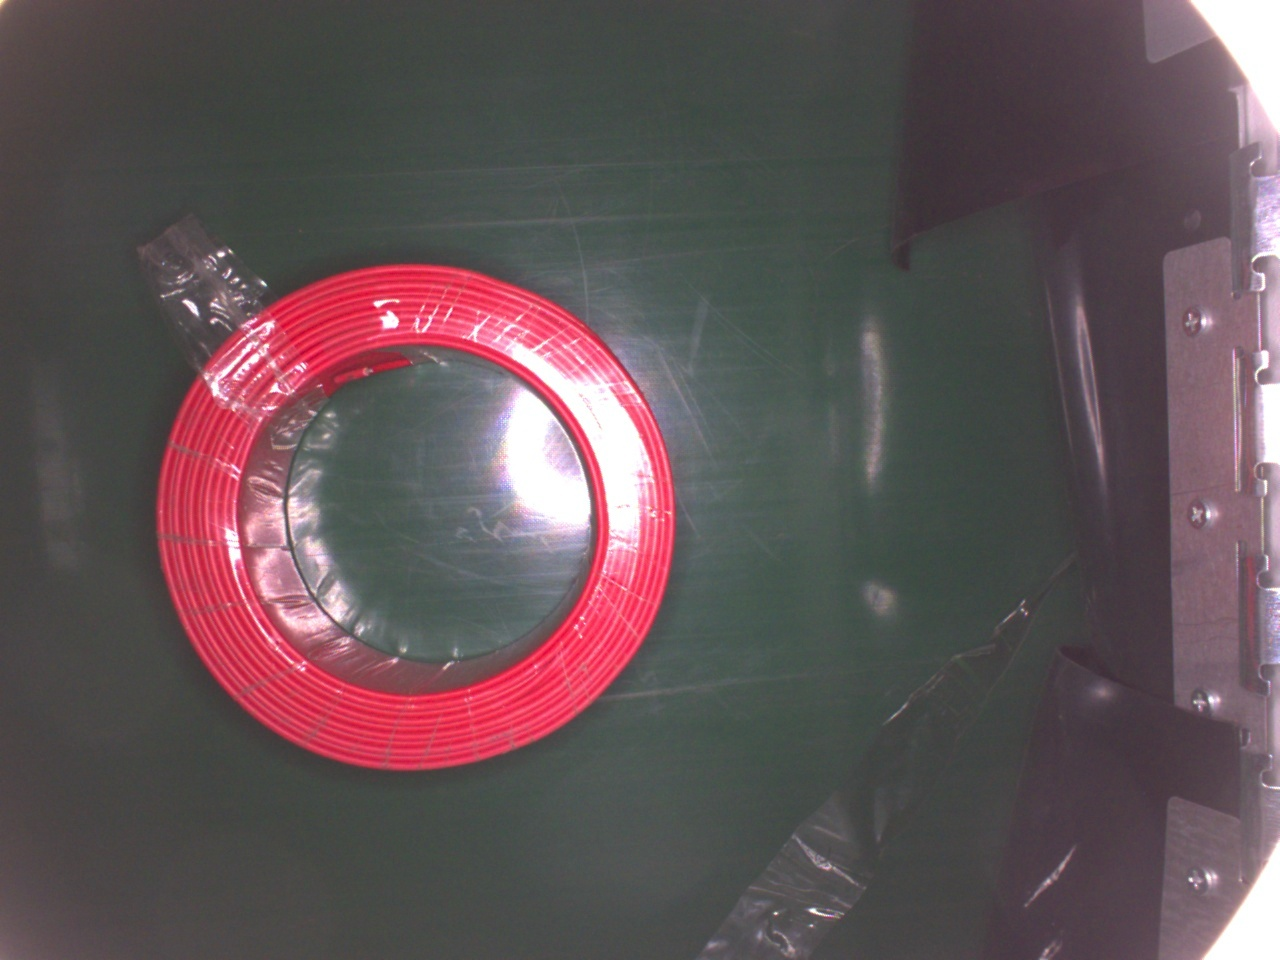red: (153, 258, 673, 779)
